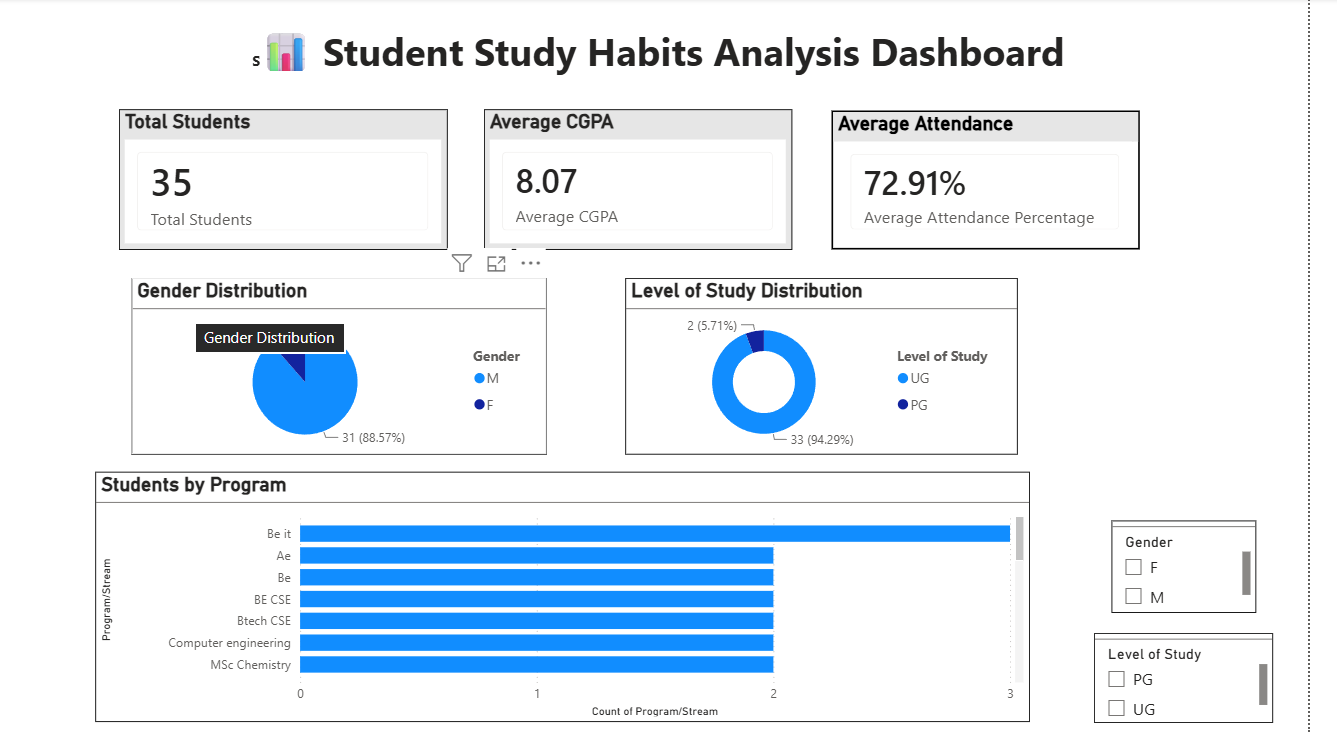

This screenshot's page, from the dashboard's own definition file:
{"tool":"powerbi","page":{"name":"Overview Dashboard","canvas":[1280,720],"ordinal":0},"visuals":[{"type":"textbox","box":[9.6,22,1270.7,72.7],"z":0},{"type":"cardVisual","title":"Total Students","fields":{"Data":["CountNonNull(Study Habits Analysis (2).Age)"]},"box":[116.9,108.5,321.5,137.8],"z":1000},{"type":"cardVisual","title":"Average CGPA","fields":{"Data":["Avg(Study Habits Analysis (2).Current CGPA (or Percentage))"]},"box":[474.5,108.5,302,137.8],"z":2000},{"type":"cardVisual","title":"Average Attendance","fields":{"Data":["Avg(Study Habits Analysis (2).Average Attendance Percentage)"]},"box":[814.1,109.9,302,136.4],"z":3000},{"type":"pieChart","title":"Gender Distribution","fields":{"Category":["Study Habits Analysis (2).Gender"],"Y":["CountNonNull(Study Habits Analysis (2).Gender)"]},"box":[129.4,274.1,406.4,172.6],"z":4000},{"type":"donutChart","title":"Level of Study Distribution  ","fields":{"Category":["Study Habits Analysis (2).Level of Study  "],"Y":["CountNonNull(Study Habits Analysis (2).Level of Study  )"]},"box":[612.3,274.1,384.1,172.6],"z":5000},{"type":"clusteredBarChart","title":"Students by Program","fields":{"Category":["Study Habits Analysis (2).Program/Stream"],"Y":["CountNonNull(Study Habits Analysis (2).Program/Stream)"]},"box":[94.6,463.4,914.3,244.9],"z":6000},{"type":"slicer","fields":{"Values":["Study Habits Analysis (2).Level of Study  "]},"box":[1071.5,620.7,175.3,87.7],"z":7000},{"type":"slicer","fields":{"Values":["Study Habits Analysis (2).Gender"]},"box":[1088.2,510.7,141.9,90.5],"z":8000}]}

Visuals, with their boxes in screenshot pixels (x1, y1, x2, y2), scaled from the page's 1280x720 canvas onto the 1337x732 screenshot:
textbox: x1=10 y1=22 x2=1336 y2=96
"Total Students" cardVisual: x1=122 y1=110 x2=458 y2=250
"Average CGPA" cardVisual: x1=496 y1=110 x2=811 y2=250
"Average Attendance" cardVisual: x1=850 y1=112 x2=1166 y2=250
"Gender Distribution" pieChart: x1=135 y1=279 x2=560 y2=454
"Level of Study Distribution  " donutChart: x1=640 y1=279 x2=1041 y2=454
"Students by Program" clusteredBarChart: x1=99 y1=471 x2=1054 y2=720
slicer - Study Habits Analysis (2).Level of Study  : x1=1119 y1=631 x2=1302 y2=720
slicer - Study Habits Analysis (2).Gender: x1=1137 y1=519 x2=1285 y2=611
